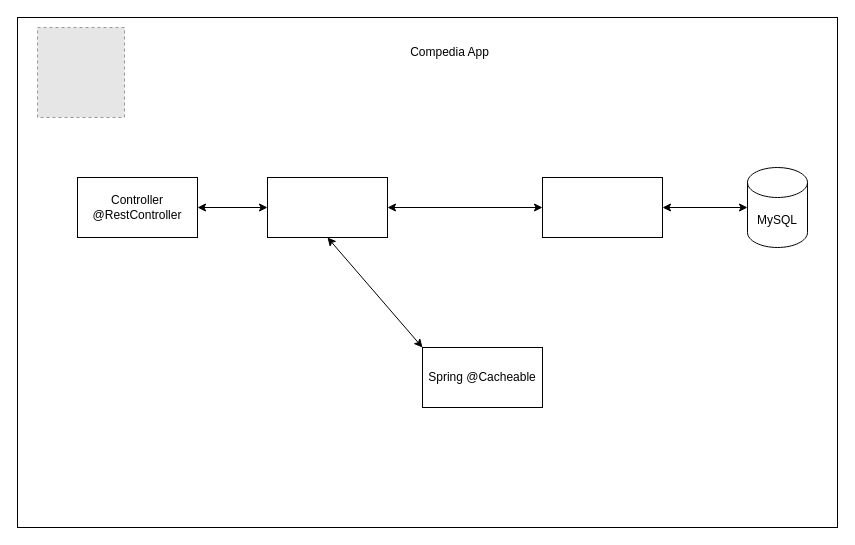
Some shapes in this 855 by 545 pixel diagram are drawn without their labels. Grey dashed boxes stand in for pictures. Each missing label, with the box of its shape:
Repository @Repository: (542, 176, 662, 238)
Service @Transactional @Service: (266, 176, 388, 238)
